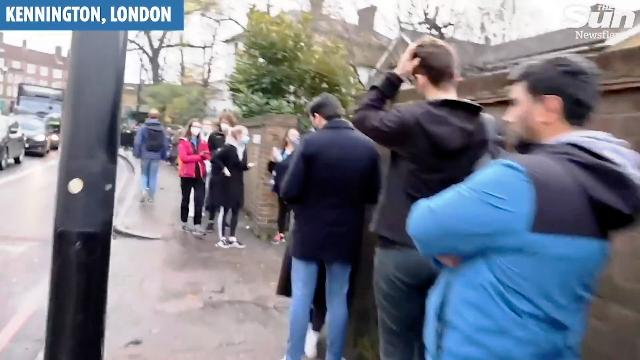berdiri: (411, 56, 640, 360), (272, 92, 390, 360), (210, 116, 256, 253), (168, 118, 210, 242)
